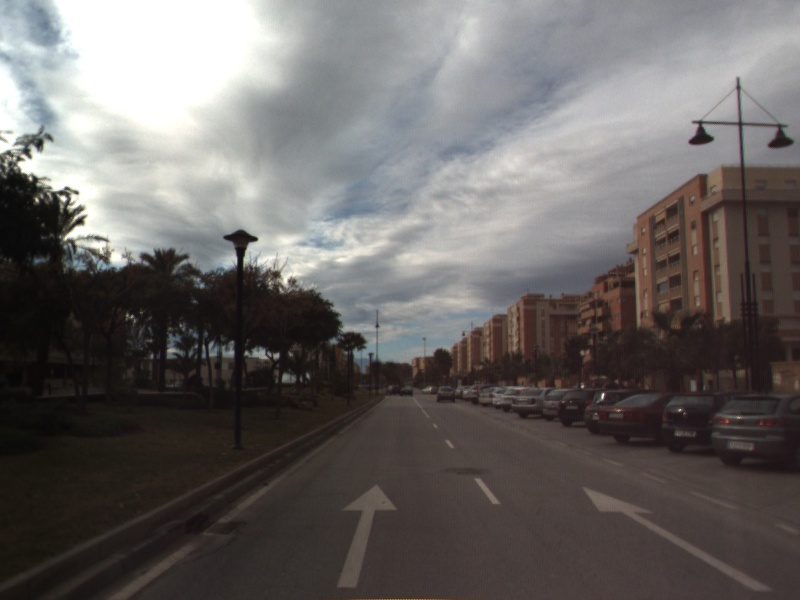STRAIGHT: (581, 485, 775, 593), (335, 482, 399, 590)
